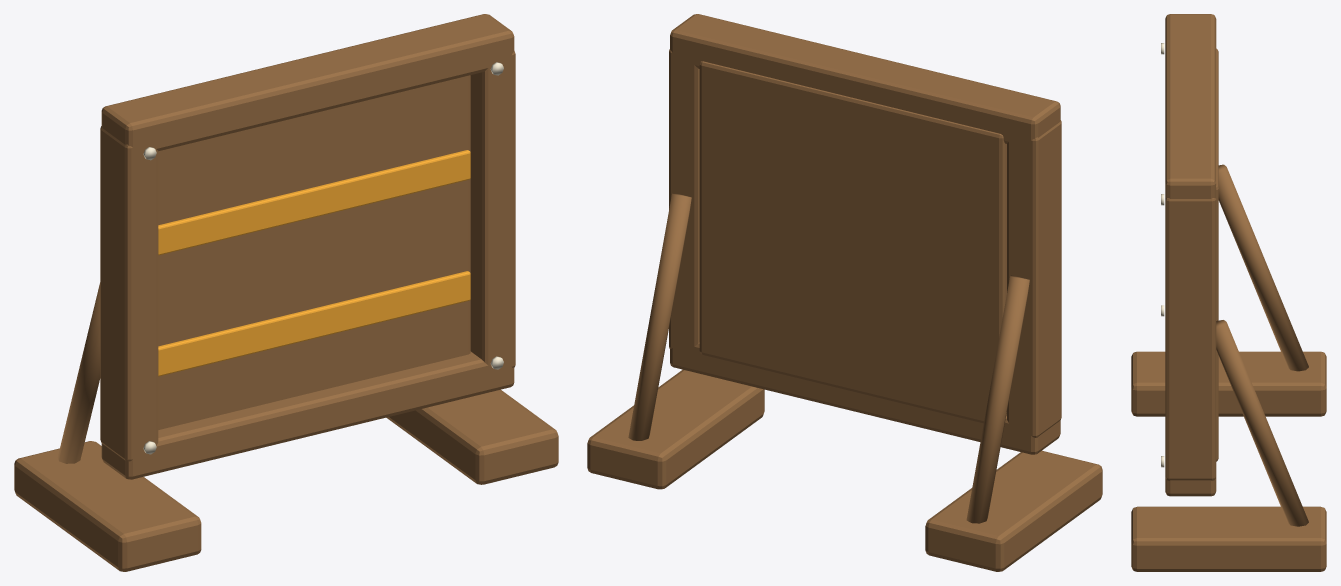
Rendered from rebound_board.fbx.
3 renders of one model, left to right at view 1: azimuth 30°, elevation 25°; view 2: azimuth 150°, elevation 25°; view 3: azimuth 270°, elevation 25°, orthographic. The views are drawn at different scales.
Parts seen in each view (by area): view 1: Board_Panel, Board_FrameTop, Board_FrameSide, Board_FrameBottom, Board_Foot, Board_FrameSide.001, Board_Foot.001, Board_YellowStripe.001, Board_YellowStripe, Board_BackBrace; view 2: Board_Panel, Board_FrameTop, Board_FrameSide, Board_Foot, Board_Foot.001, Board_FrameBottom, Board_FrameSide.001, Board_BackBrace, Board_BackBrace.001; view 3: Board_FrameSide.001, Board_Foot.001, Board_FrameTop, Board_Foot, Board_BackBrace.001, Board_BackBrace, Board_Panel, Board_FrameBottom.
Boxes of the visible parts, left/top/right/bottom form: Board_Panel: left=158, top=75, right=470, bottom=429; Board_FrameTop: left=101, top=14, right=514, bottom=153; Board_FrameSide: left=100, top=126, right=158, bottom=461; Board_FrameBottom: left=101, top=351, right=514, bottom=479; Board_Foot: left=14, top=441, right=201, bottom=571; Board_FrameSide.001: left=470, top=51, right=515, bottom=370; Board_Foot.001: left=386, top=389, right=558, bottom=484; Board_YellowStripe.001: left=158, top=150, right=470, bottom=255; Board_YellowStripe: left=158, top=271, right=470, bottom=376; Board_BackBrace: left=57, top=282, right=100, bottom=463; Board_Panel: left=699, top=61, right=1006, bottom=423; Board_FrameTop: left=670, top=14, right=1060, bottom=146; Board_FrameSide: left=1007, top=120, right=1061, bottom=437; Board_Foot: left=925, top=450, right=1102, bottom=571; Board_Foot.001: left=587, top=369, right=764, bottom=489; Board_FrameBottom: left=670, top=341, right=1060, bottom=454; Board_FrameSide.001: left=669, top=49, right=699, bottom=351; Board_BackBrace: left=966, top=275, right=1029, bottom=523; Board_BackBrace.001: left=628, top=193, right=691, bottom=440; Board_FrameSide.001: left=1165, top=198, right=1216, bottom=480; Board_Foot.001: left=1131, top=506, right=1326, bottom=571; Board_FrameTop: left=1165, top=14, right=1216, bottom=198; Board_Foot: left=1131, top=351, right=1326, bottom=416; Board_BackBrace.001: left=1216, top=320, right=1308, bottom=526; Board_BackBrace: left=1218, top=164, right=1308, bottom=371; Board_Panel: left=1216, top=48, right=1218, bottom=461; Board_FrameBottom: left=1165, top=477, right=1216, bottom=496.
Bounding box in the file's own units: 0.532 × 0.496 × 0.23.
